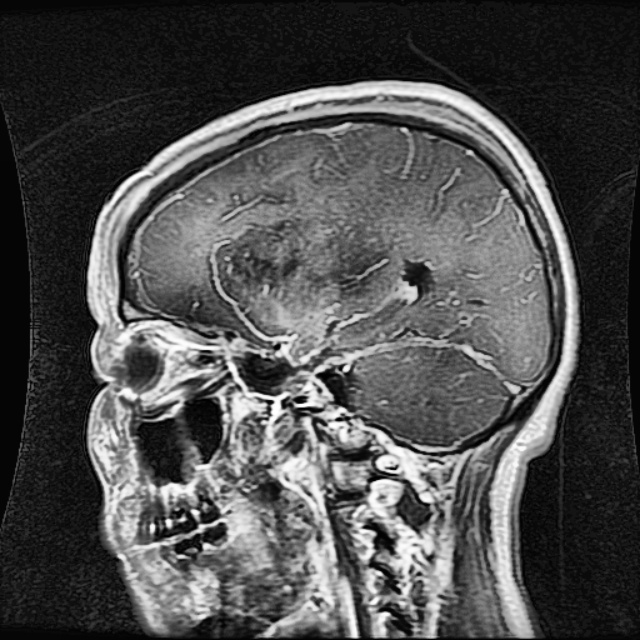Meningioma: (209, 222, 340, 353)
